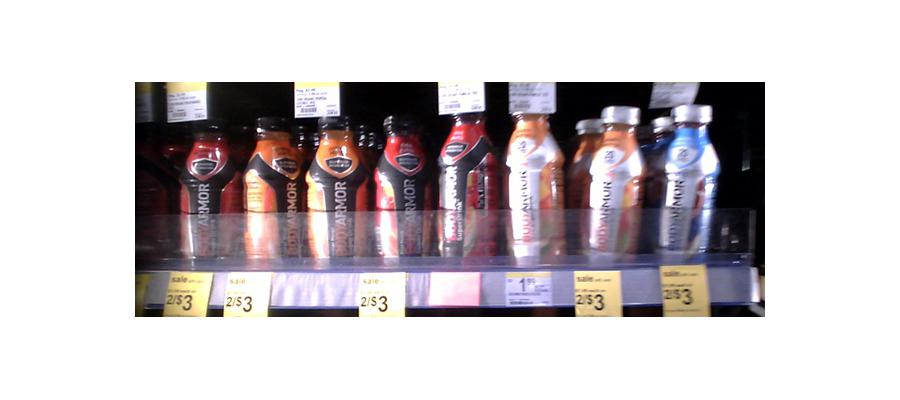bottle: (570, 101, 648, 262), (651, 102, 717, 264), (305, 109, 369, 266), (439, 94, 498, 263), (505, 104, 565, 267), (374, 106, 434, 261), (242, 112, 301, 268), (180, 116, 239, 264)
